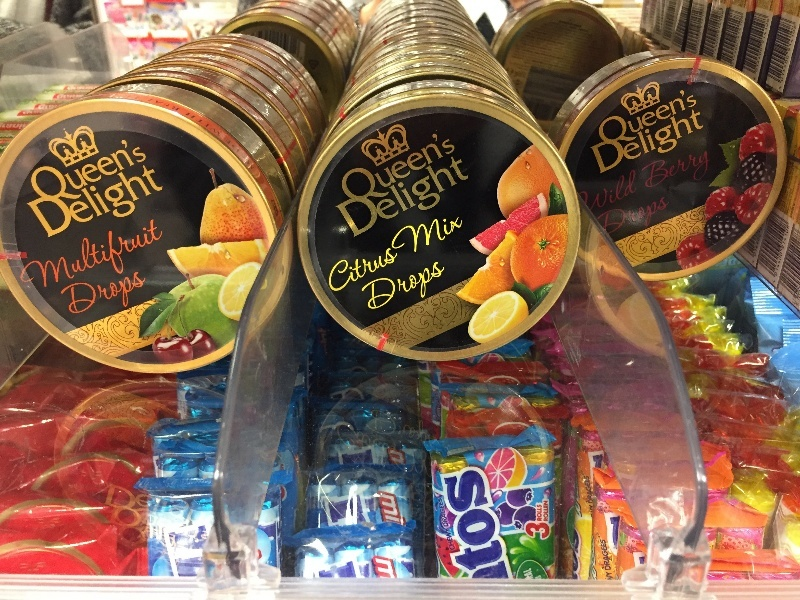text: (433, 459, 448, 581), (449, 459, 464, 581), (465, 459, 480, 581), (481, 459, 496, 581), (497, 459, 512, 581), (17, 200, 32, 315), (33, 200, 48, 315), (49, 200, 64, 315), (65, 200, 80, 315), (81, 200, 96, 315), (97, 200, 112, 315), (113, 200, 128, 315), (129, 200, 144, 315), (145, 200, 160, 315), (33, 146, 48, 254), (49, 146, 64, 254), (65, 146, 80, 254), (81, 146, 96, 254), (97, 146, 112, 254), (113, 146, 128, 254), (129, 146, 144, 254), (145, 146, 160, 254), (337, 145, 352, 245), (353, 145, 368, 245), (369, 145, 384, 245), (385, 145, 400, 245), (401, 145, 416, 245), (417, 145, 432, 245), (433, 145, 448, 245), (449, 145, 464, 245), (33, 123, 48, 219), (49, 123, 64, 219), (65, 123, 80, 219), (81, 123, 96, 219), (97, 123, 112, 219), (113, 123, 128, 219), (129, 123, 144, 219), (337, 126, 352, 216), (353, 126, 368, 216), (369, 126, 384, 216), (385, 126, 400, 216), (401, 126, 416, 216), (417, 126, 432, 216), (433, 126, 448, 216), (465, 145, 478, 245), (161, 200, 172, 315), (593, 97, 608, 181), (609, 97, 624, 181), (625, 97, 640, 181), (641, 97, 656, 181), (657, 97, 672, 181), (673, 97, 688, 181), (689, 97, 704, 181), (529, 4, 544, 85), (545, 4, 560, 85), (561, 4, 576, 85), (577, 4, 592, 85), (161, 146, 172, 254), (65, 255, 80, 330), (81, 255, 96, 330), (97, 255, 112, 330), (113, 255, 128, 330), (129, 255, 144, 330), (113, 480, 128, 554), (129, 480, 144, 554), (449, 126, 461, 216), (609, 83, 624, 154), (625, 83, 640, 154), (641, 83, 656, 154), (657, 83, 672, 154), (673, 83, 688, 154), (145, 480, 159, 554), (193, 107, 208, 174), (209, 107, 224, 174), (225, 107, 240, 174), (241, 107, 256, 174), (594, 83, 608, 154), (23, 146, 32, 254), (689, 83, 702, 154), (337, 235, 352, 295), (353, 235, 368, 295), (369, 235, 384, 295), (385, 235, 400, 295), (401, 204, 416, 263), (417, 204, 432, 263), (433, 204, 448, 263), (449, 204, 464, 263), (322, 235, 336, 295), (641, 144, 656, 200), (657, 144, 672, 200), (673, 144, 688, 200), (689, 144, 704, 200), (593, 186, 608, 242), (609, 186, 624, 242), (625, 186, 640, 242), (641, 186, 656, 242), (657, 186, 672, 242), (369, 258, 384, 312), (385, 258, 400, 312), (401, 258, 416, 312), (417, 258, 432, 312), (433, 258, 448, 312), (754, 18, 768, 74), (387, 204, 400, 263), (145, 255, 155, 330), (519, 4, 528, 85), (1, 84, 16, 132), (17, 84, 32, 132), (33, 84, 48, 132), (49, 84, 64, 132), (65, 84, 80, 132), (81, 84, 96, 132), (785, 25, 797, 82), (577, 169, 592, 214), (593, 169, 608, 214), (609, 169, 624, 214), (145, 123, 152, 219), (792, 139, 800, 222), (625, 169, 639, 214), (385, 489, 400, 530), (56, 255, 64, 330), (26, 123, 32, 219), (774, 224, 784, 278), (753, 222, 765, 266), (705, 144, 713, 200), (587, 97, 592, 181), (705, 97, 710, 181), (593, 4, 598, 85), (599, 537, 608, 580), (449, 497, 456, 552), (361, 258, 368, 312), (737, 15, 744, 67), (97, 84, 104, 132), (187, 107, 192, 174), (442, 497, 448, 552), (401, 489, 409, 530), (785, 224, 791, 278), (385, 556, 399, 579), (529, 521, 544, 542), (377, 489, 384, 530), (161, 95, 176, 114), (372, 556, 384, 579), (731, 15, 736, 67), (609, 537, 615, 580), (513, 459, 515, 581), (14, 200, 16, 315), (780, 25, 784, 82), (334, 145, 336, 245), (593, 473, 597, 522), (150, 95, 160, 114), (465, 204, 468, 263), (536, 503, 544, 523), (110, 480, 112, 554), (589, 473, 592, 522), (257, 107, 259, 174), (545, 521, 551, 542), (401, 235, 403, 295), (449, 258, 451, 312), (177, 95, 182, 114), (529, 567, 536, 580), (773, 277, 784, 285), (545, 501, 549, 523), (523, 567, 528, 580), (525, 521, 528, 542), (769, 18, 770, 74), (751, 222, 752, 266), (543, 501, 544, 523)
